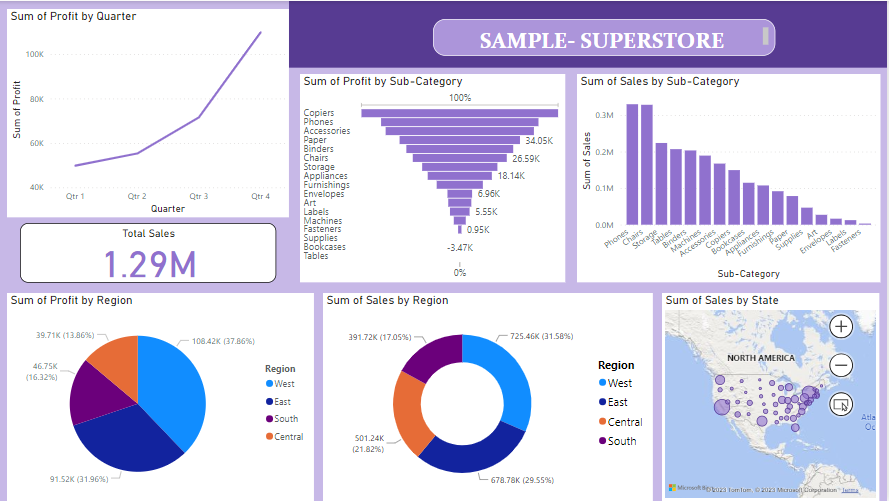

The page's visual inventory and layout, read from the dashboard file:
{"tool":"powerbi","page":{"name":"Page 1","canvas":[1280,720],"ordinal":8},"visuals":[{"type":"columnChart","fields":{"Category":["Orders.Sub-Category"],"Y":["Sum(Orders.Sales)"]},"box":[831.7,105,436.7,300],"z":0},{"type":"pieChart","fields":{"Y":["Sum(Orders.Profit)"],"Category":["Orders.Region"]},"box":[11.7,420,441.7,300],"z":1000},{"type":"lineChart","fields":{"Y":["Sum(Orders.Profit)"],"Category":["Orders.Ship Date.Variation.Date Hierarchy.Quarter"]},"box":[11.4,11.4,405.7,300],"z":2000},{"type":"donutChart","fields":{"Category":["Orders.Region"],"Y":["Sum(Orders.Sales)"]},"box":[466.7,420,475,300],"z":3000},{"type":"funnel","fields":{"Category":["Orders.Sub-Category"],"Y":["Sum(Orders.Profit)"]},"box":[433.3,105,381.7,300],"z":4000},{"type":"map","fields":{"Category":["Orders.State"],"Size":["Sum(Orders.Sales)"]},"box":[955,420,313.3,300],"z":5000},{"type":"card","title":"Total Sales","fields":{"Values":["Sum(Orders.Sales)"]},"box":[30,320,368.6,85.7],"z":5001},{"type":"textbox","box":[417.1,0,862.9,95.7],"z":5002},{"type":"textbox","box":[624.3,25.7,492.9,52.9],"z":5003}]}

Visuals, with their boxes in screenshot pixels (x1, y1, x2, y2), scaled from the page's 1280x720 canvas onto the 889x501 screenshot:
columnChart - Orders.Sub-Category x Sum(Orders.Sales): 578/73/881/282
pieChart - Sum(Orders.Profit) x Orders.Region: 8/292/315/500
lineChart - Sum(Orders.Profit) x Orders.Ship Date.Variation.Date Hierarchy.Quarter: 8/8/290/217
donutChart - Orders.Region x Sum(Orders.Sales): 324/292/654/500
funnel - Orders.Sub-Category x Sum(Orders.Profit): 301/73/566/282
map - Orders.State x Sum(Orders.Sales): 663/292/881/500
"Total Sales" card: 21/223/277/282
textbox: 290/0/888/67
textbox: 434/18/776/55
